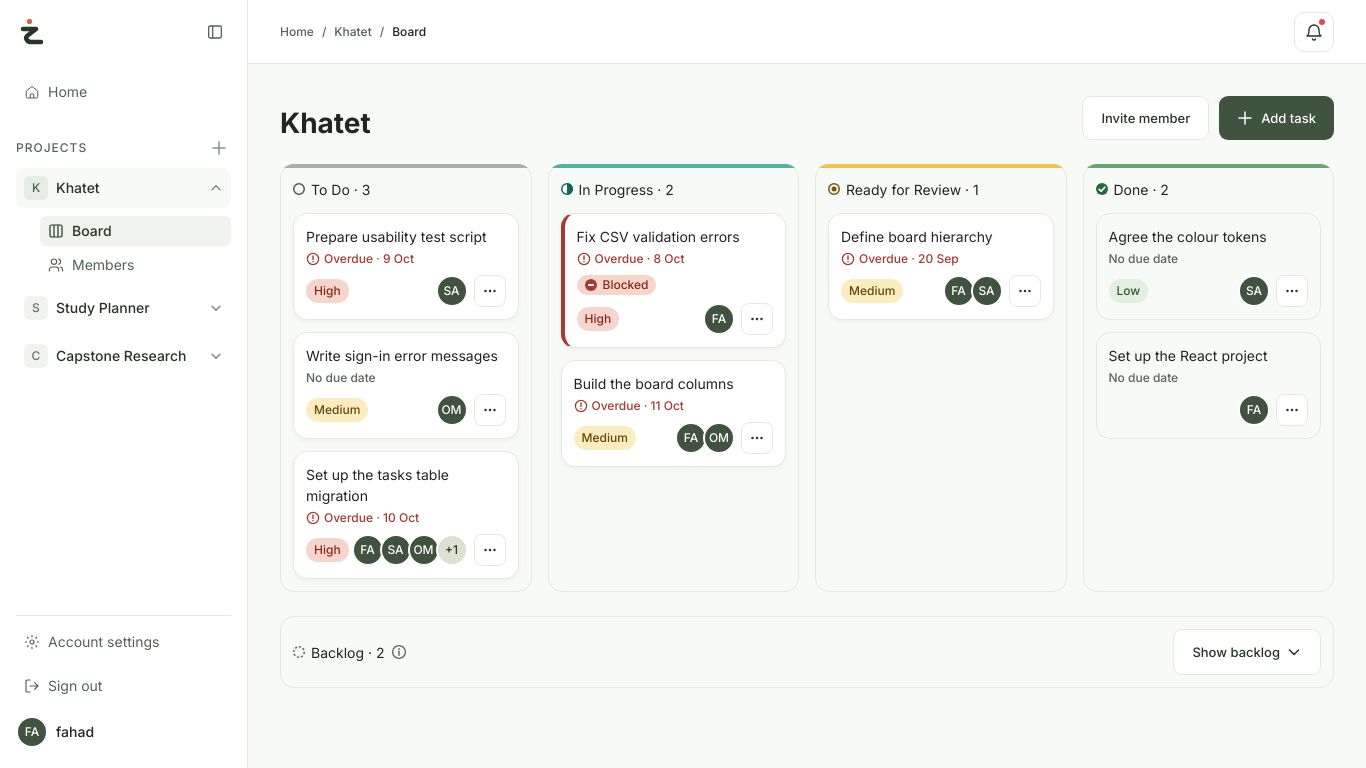
tasks (US-13, US-14, US-15, US-17, US-18) › asks before discarding a half-filled new task
Click the button "Add task" at (1277, 118), box [1219,96,1334,140]
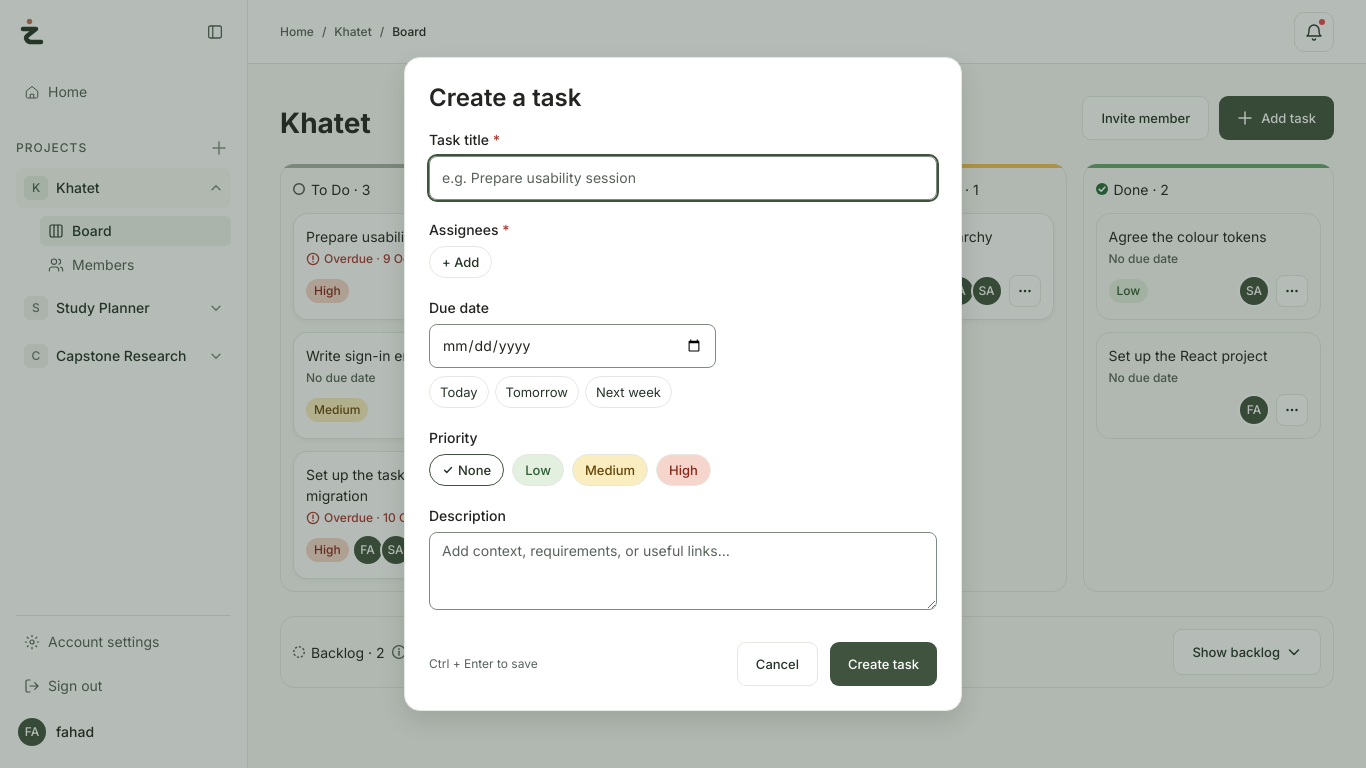
Type "Half a thought" into the field labelled "Task title *" at (683, 178), box [429,156,937,200]
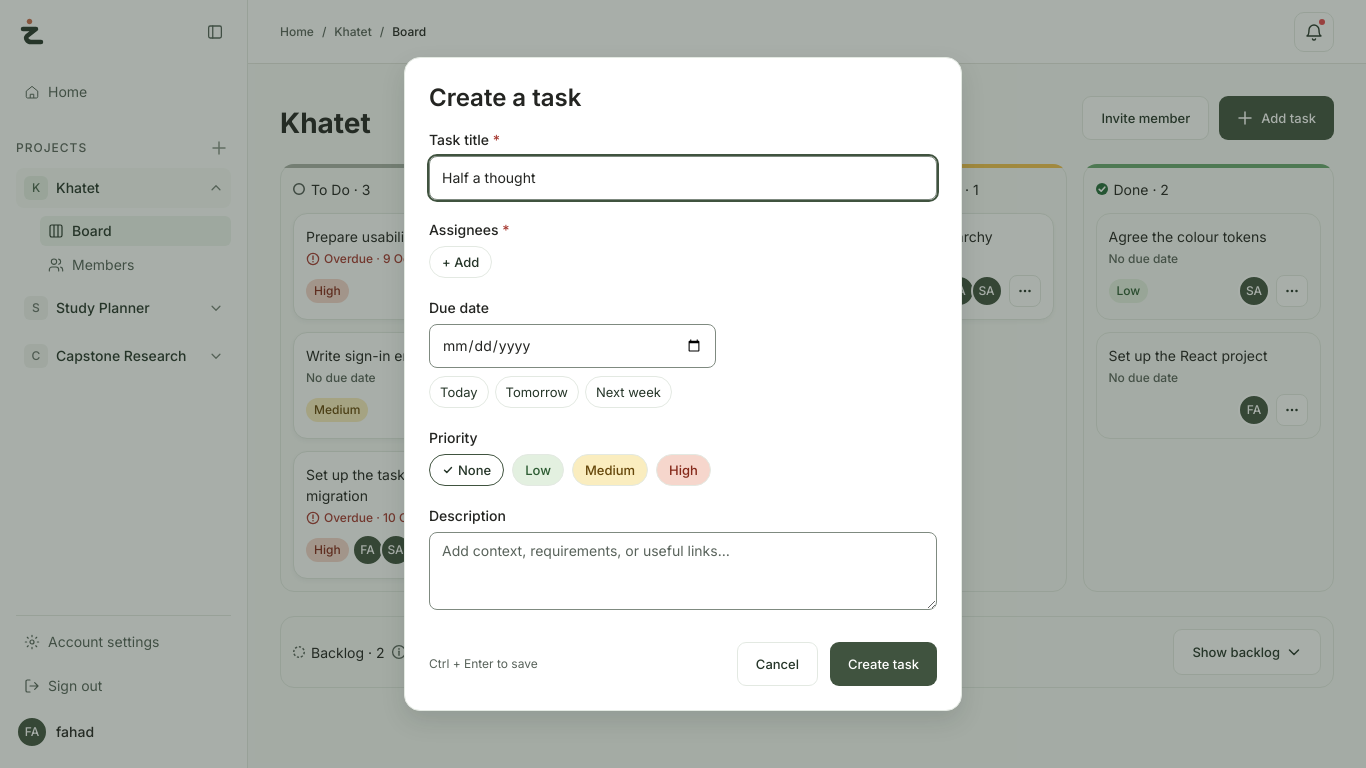
Click the button "Cancel" at (777, 664), box [737,642,818,686]
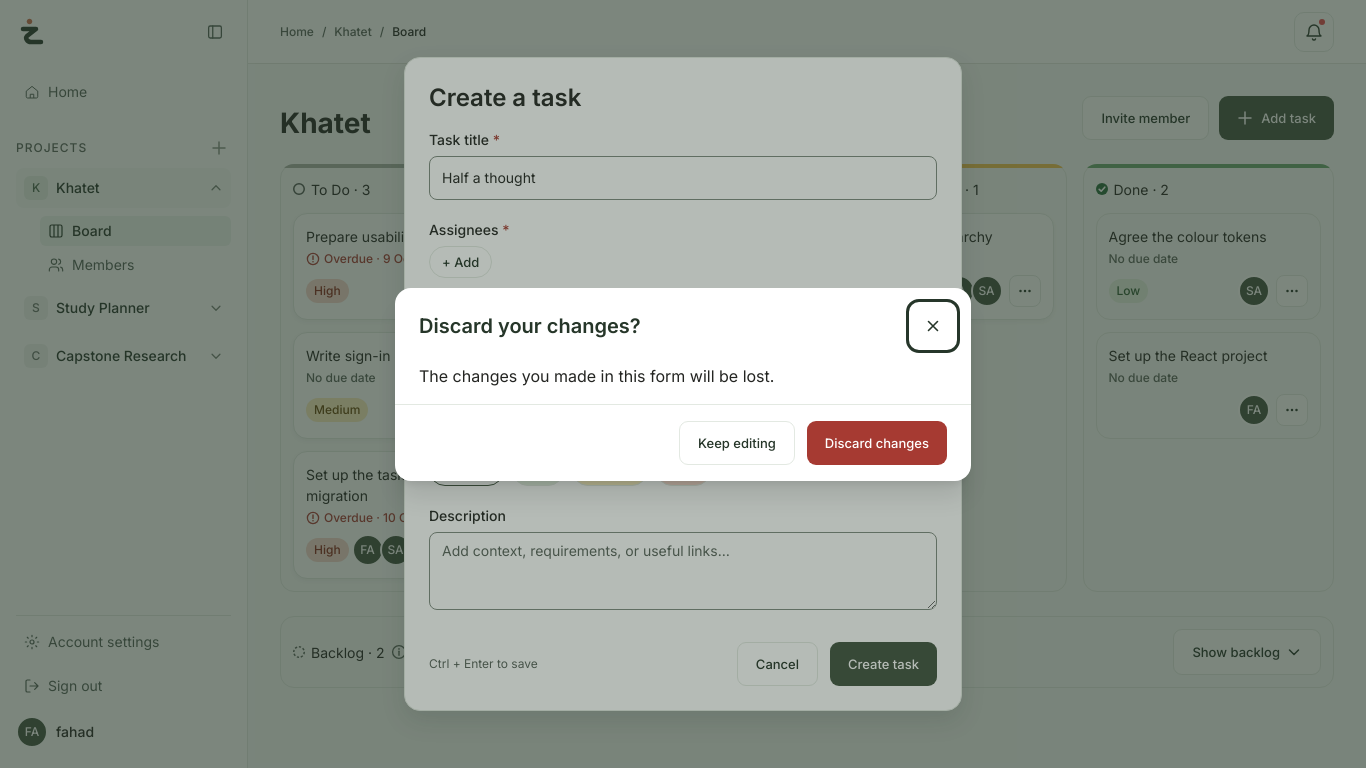
Click the button "Keep editing" at (737, 442), box [679,420,795,464]
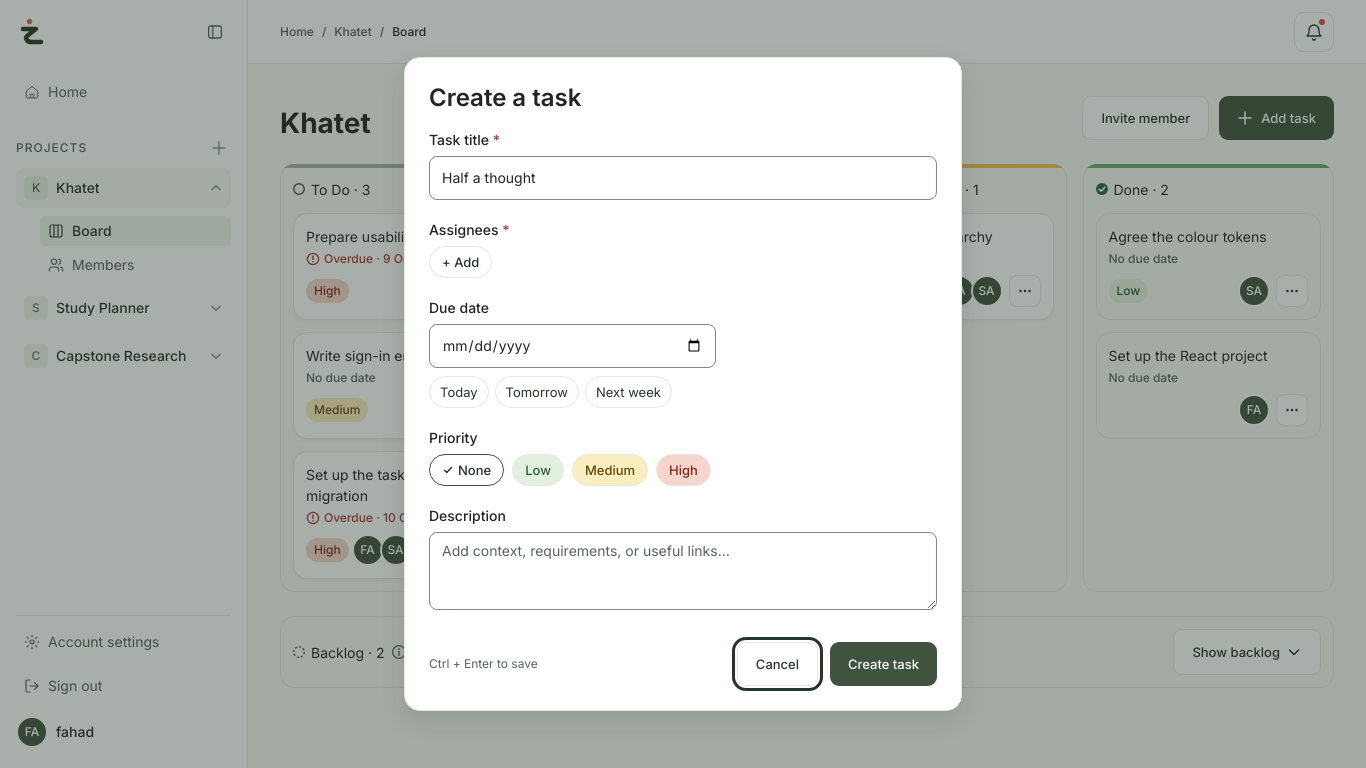
Click the button "Cancel" at (777, 664), box [737,642,818,686]
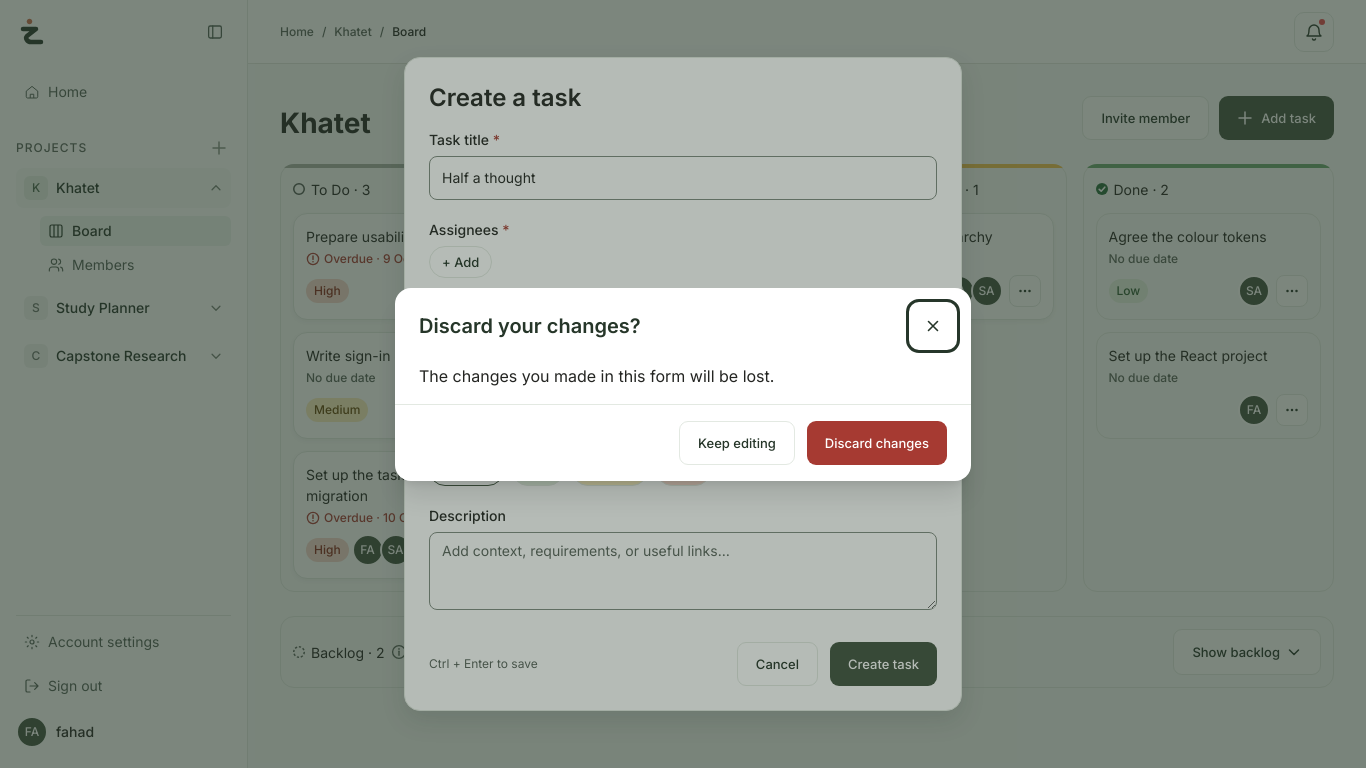
Click the button "Discard changes" at (877, 442), box [807,420,947,464]
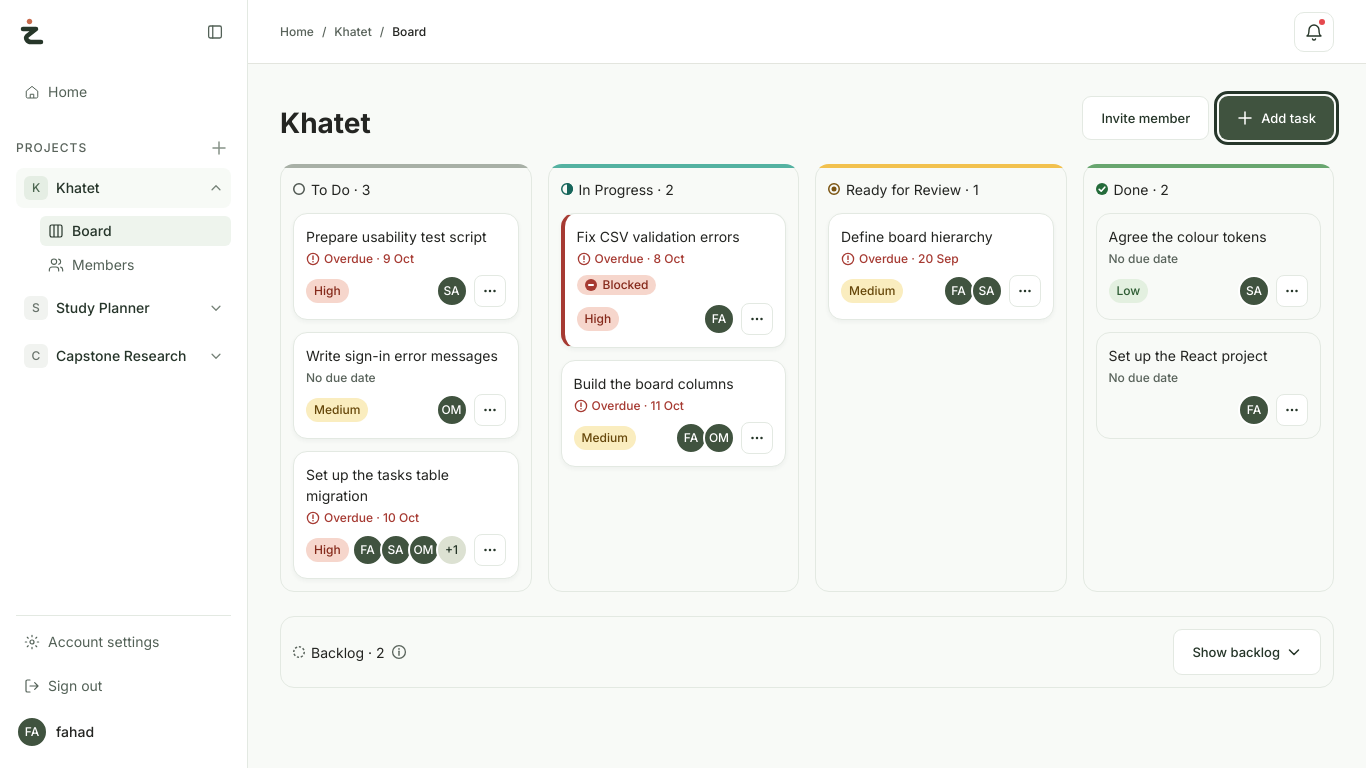
Check: the heading "Create a task" is gone
